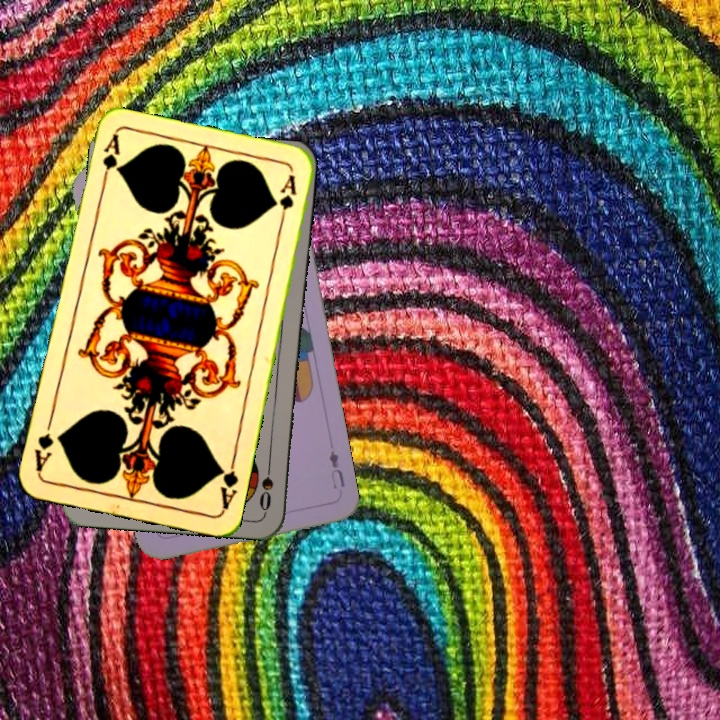EU: (325, 446, 348, 490)
GA: (214, 453, 241, 512), (98, 131, 122, 190)
SO: (255, 455, 276, 514)
